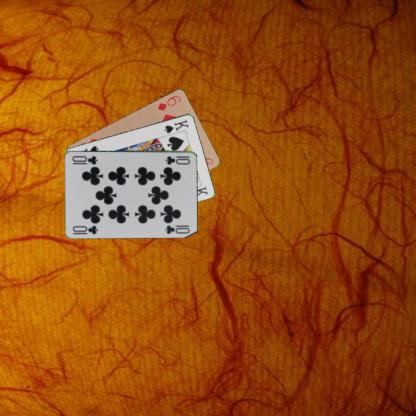10c: (70, 223, 100, 235), (163, 154, 191, 166)
6d: (155, 92, 182, 112)
Ks: (162, 117, 190, 134)
